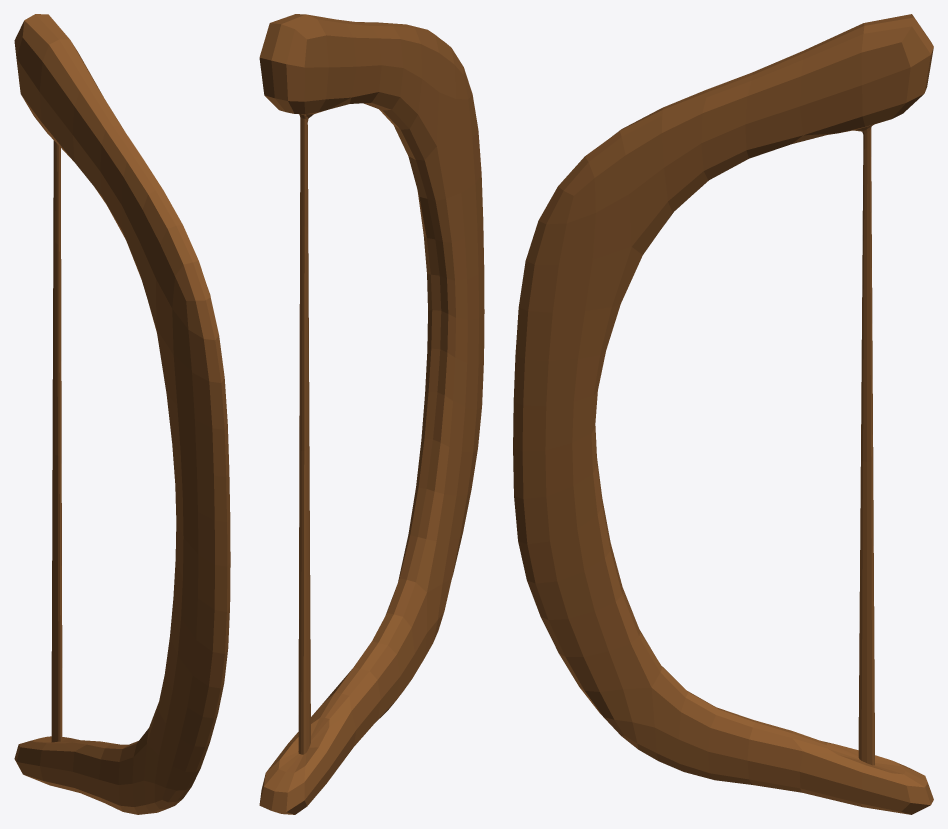
Rendered from arco.glb.
3 views of the same model, side by side, from view 1: azimuth 30°, elevation 25°; view 2: azimuth 150°, elevation 25°; view 3: azimuth 270°, elevation 25° (orthographic). The views are drawn at different scales.
Parts seen in each view (by area): view 1: Cube; view 2: Cube; view 3: Cube.
Boxes of the visible parts, x1=… form: Cube: x1=14, y1=14, x2=230, y2=814; Cube: x1=259, y1=14, x2=484, y2=814; Cube: x1=513, y1=14, x2=933, y2=814.
Size of the model in its own units: 0.0233 by 0.4059 by 0.1954.
1 material, 1 textured.
